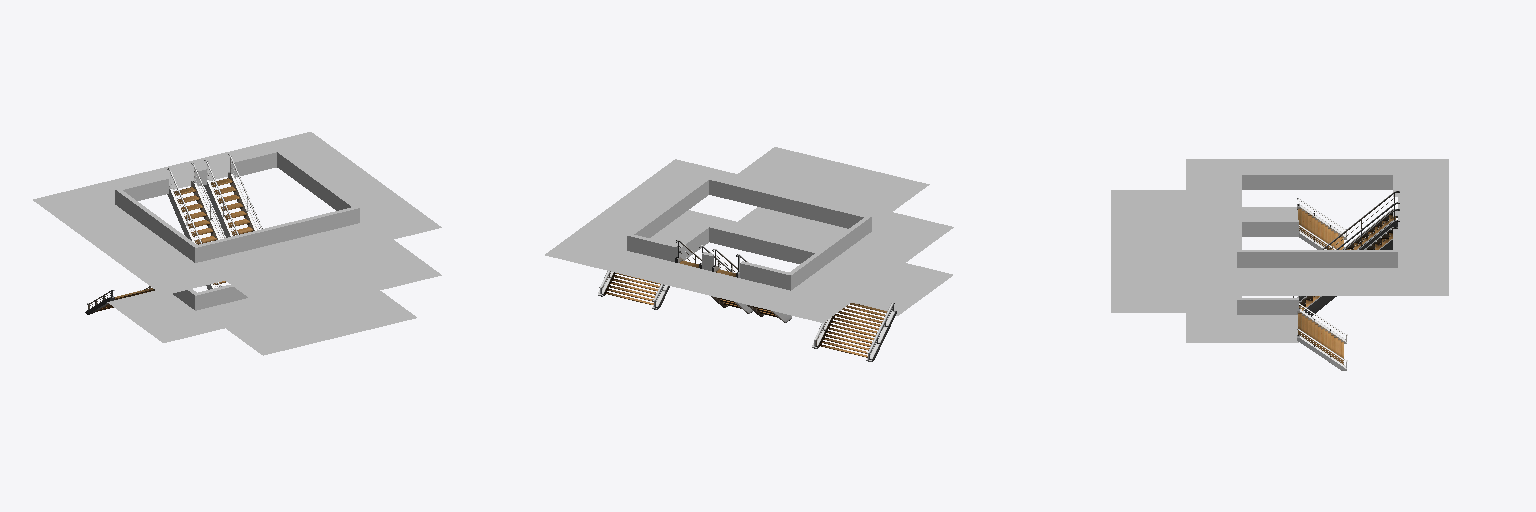
The picture shows the model from 3 angles: view 1: azimuth 30°, elevation 25°; view 2: azimuth 150°, elevation 25°; view 3: azimuth 270°, elevation 25°; orthographic projection.
Parts seen in each view (by area): view 1: Plane, Plane.001_Plane.002, prim0_prim0-mesh, prim0_prim0-mesh.001_prim0_prim0-mesh.002; view 2: Plane, Plane.001_Plane.002, prim0_prim0-mesh.003_prim0_prim0-mesh.004, prim0_prim0-mesh.002_prim0_prim0-mesh.003, prim0_prim0-mesh, prim0_prim0-mesh.001_prim0_prim0-mesh.002; view 3: Plane, Plane.001_Plane.002, prim0_prim0-mesh.002_prim0_prim0-mesh.003, prim0_prim0-mesh.003_prim0_prim0-mesh.004, prim0_prim0-mesh.001_prim0_prim0-mesh.002, prim0_prim0-mesh.
Boxes of the visible parts, x1=… form: Plane: x1=33, y1=132, x2=441, y2=307; Plane.001_Plane.002: x1=107, y1=240, x2=441, y2=355; prim0_prim0-mesh: x1=167, y1=163, x2=225, y2=289; prim0_prim0-mesh.001_prim0_prim0-mesh.002: x1=204, y1=154, x2=262, y2=237; Plane: x1=545, y1=147, x2=953, y2=322; Plane.001_Plane.002: x1=650, y1=207, x2=952, y2=315; prim0_prim0-mesh.003_prim0_prim0-mesh.004: x1=812, y1=303, x2=896, y2=361; prim0_prim0-mesh.002_prim0_prim0-mesh.003: x1=598, y1=251, x2=680, y2=309; prim0_prim0-mesh: x1=712, y1=249, x2=791, y2=322; prim0_prim0-mesh.001_prim0_prim0-mesh.002: x1=675, y1=240, x2=752, y2=313; Plane: x1=1111, y1=159, x2=1448, y2=295; Plane.001_Plane.002: x1=1111, y1=207, x2=1298, y2=342; prim0_prim0-mesh.002_prim0_prim0-mesh.003: x1=1297, y1=303, x2=1347, y2=370; prim0_prim0-mesh.003_prim0_prim0-mesh.004: x1=1297, y1=198, x2=1346, y2=249; prim0_prim0-mesh.001_prim0_prim0-mesh.002: x1=1293, y1=209, x2=1399, y2=316; prim0_prim0-mesh: x1=1297, y1=191, x2=1399, y2=300.
Size of the model in its own units: 25.29 by 8.9 by 26.5.
8 materials, 1 textured.